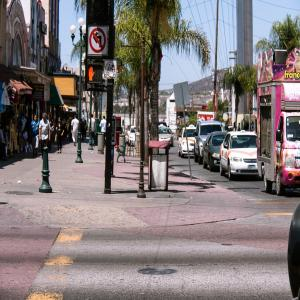Vehicle-registration-plate: (250, 165, 256, 171)
